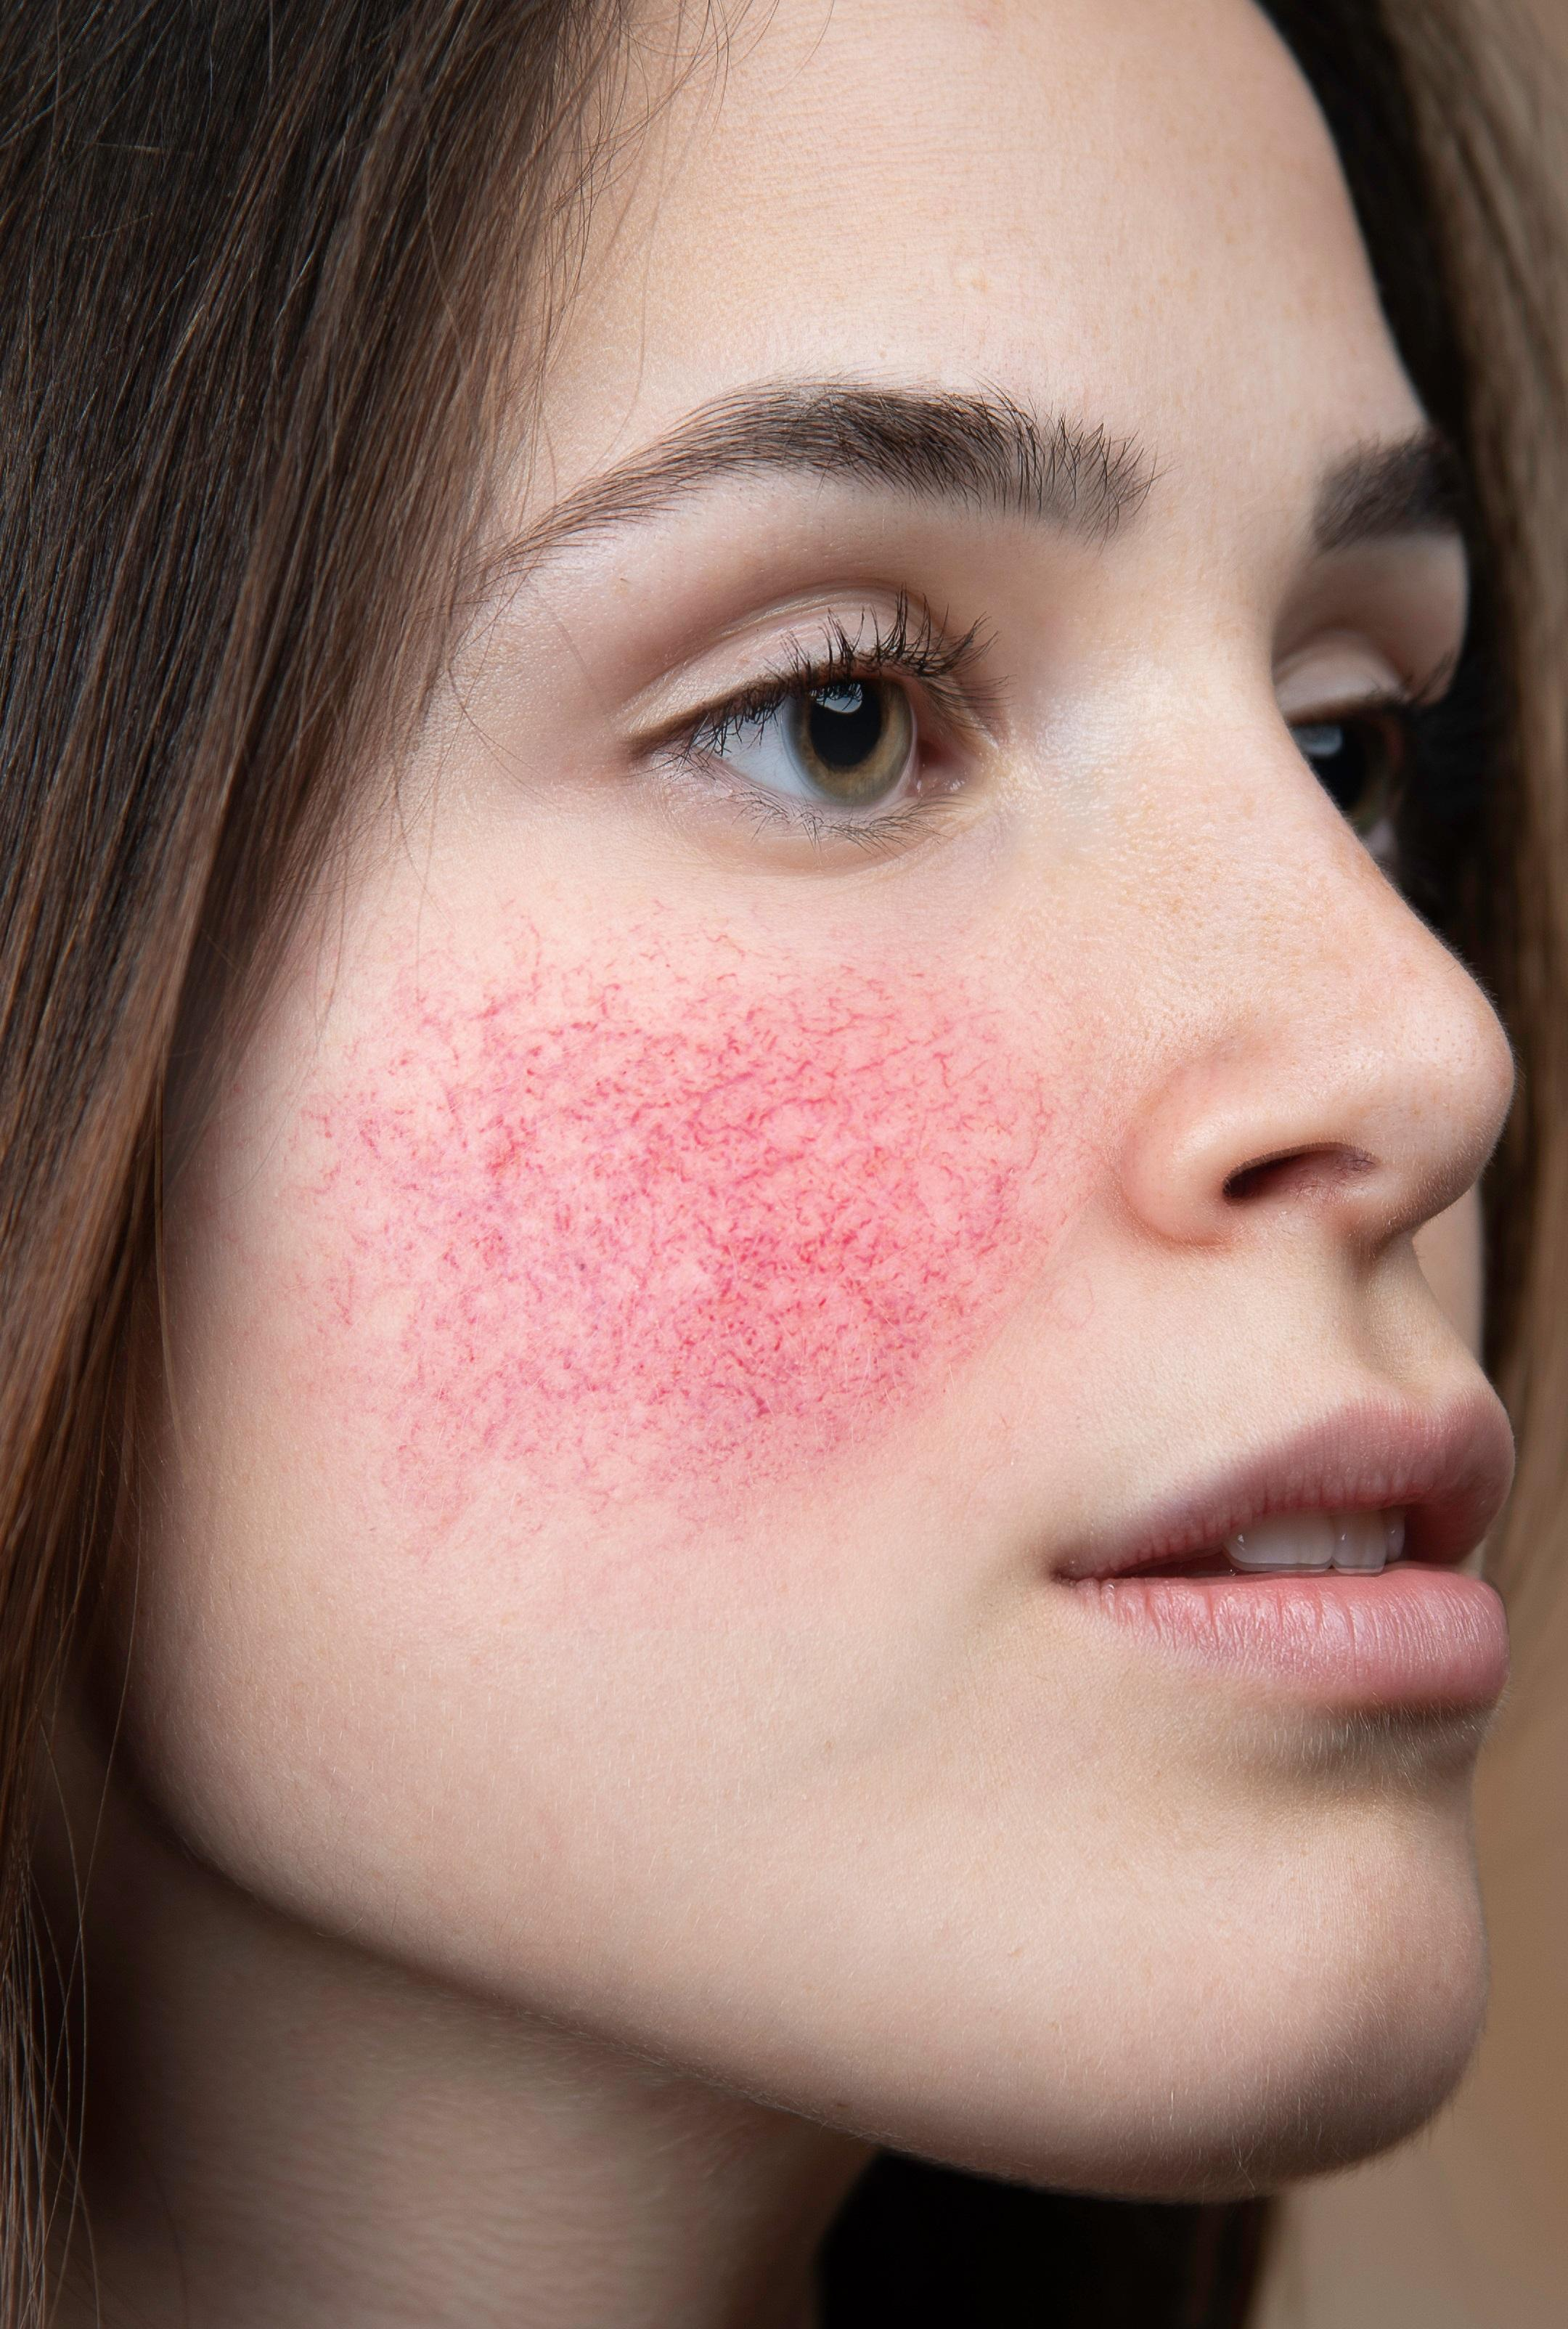Skin-Redness: (315, 940, 1067, 1500)
